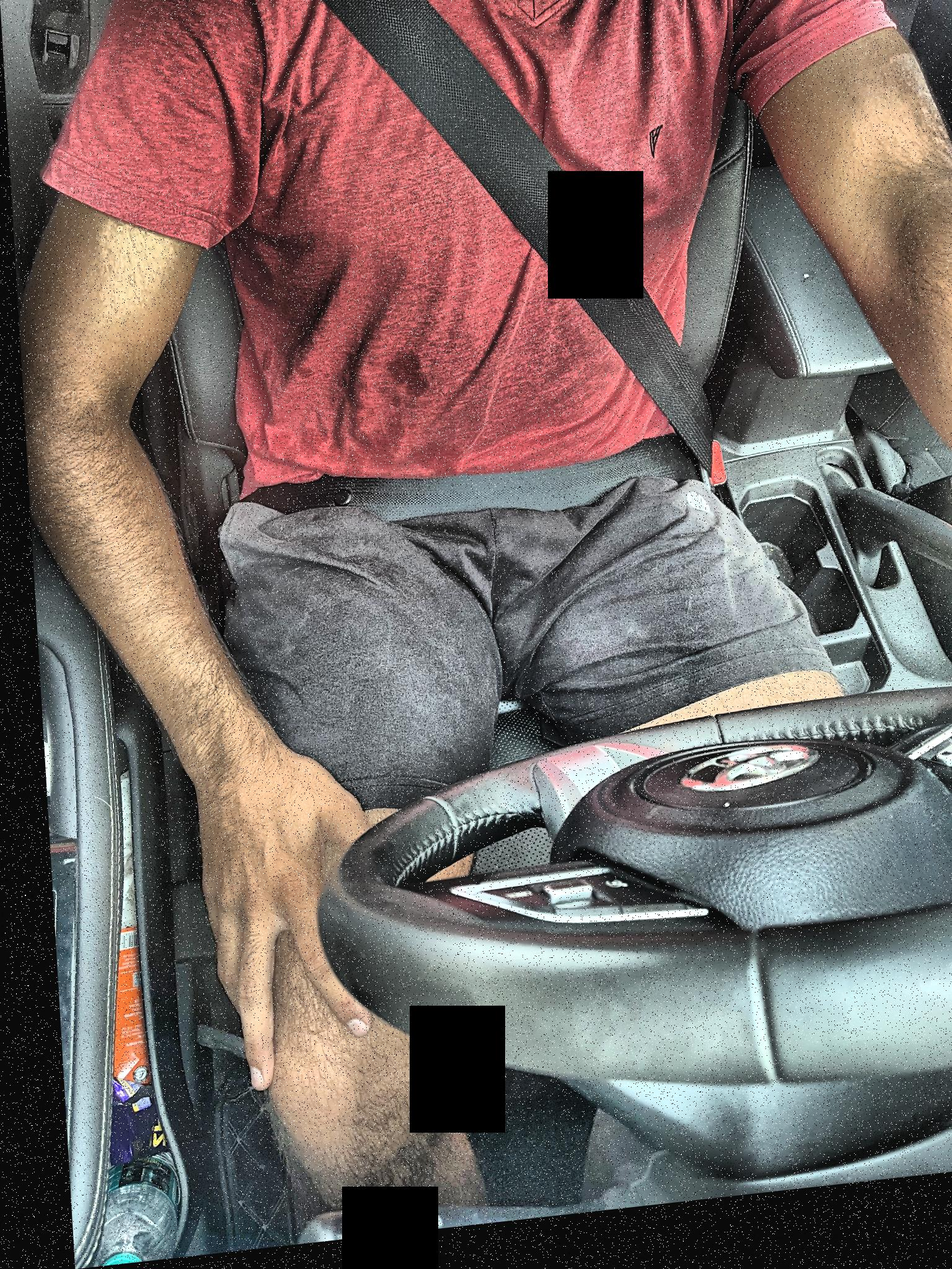seatbelt: (47, 0, 737, 546)
